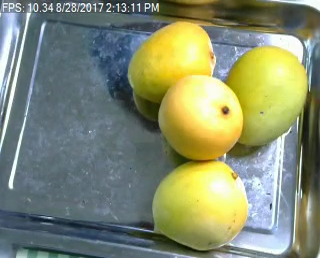Mango: (153, 158, 248, 247), (226, 49, 308, 145), (125, 21, 215, 99), (159, 76, 241, 161)
